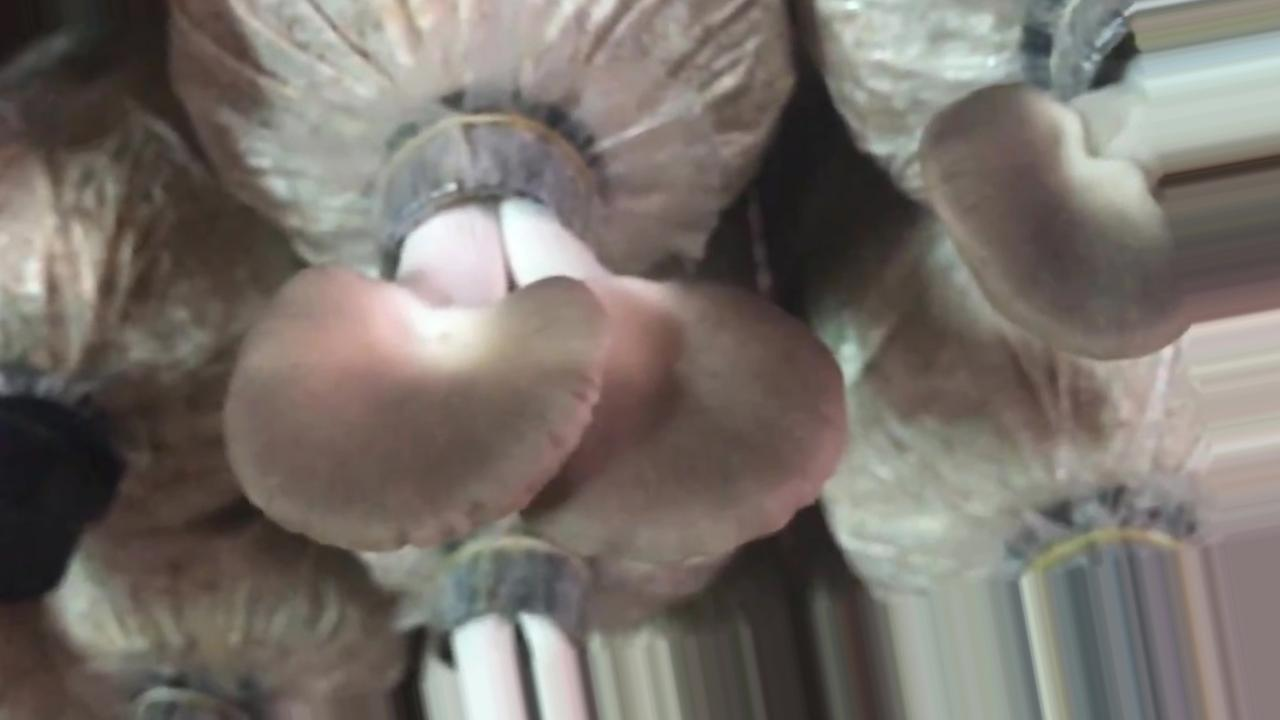nam: (211, 88, 849, 562), (916, 5, 1280, 362)
